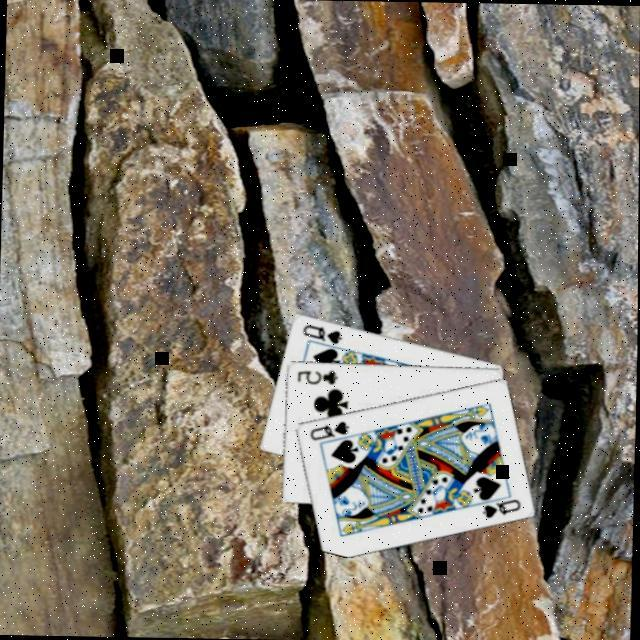5C: (295, 368, 341, 390)
QS: (479, 496, 524, 524), (307, 418, 353, 445), (300, 322, 346, 348)
